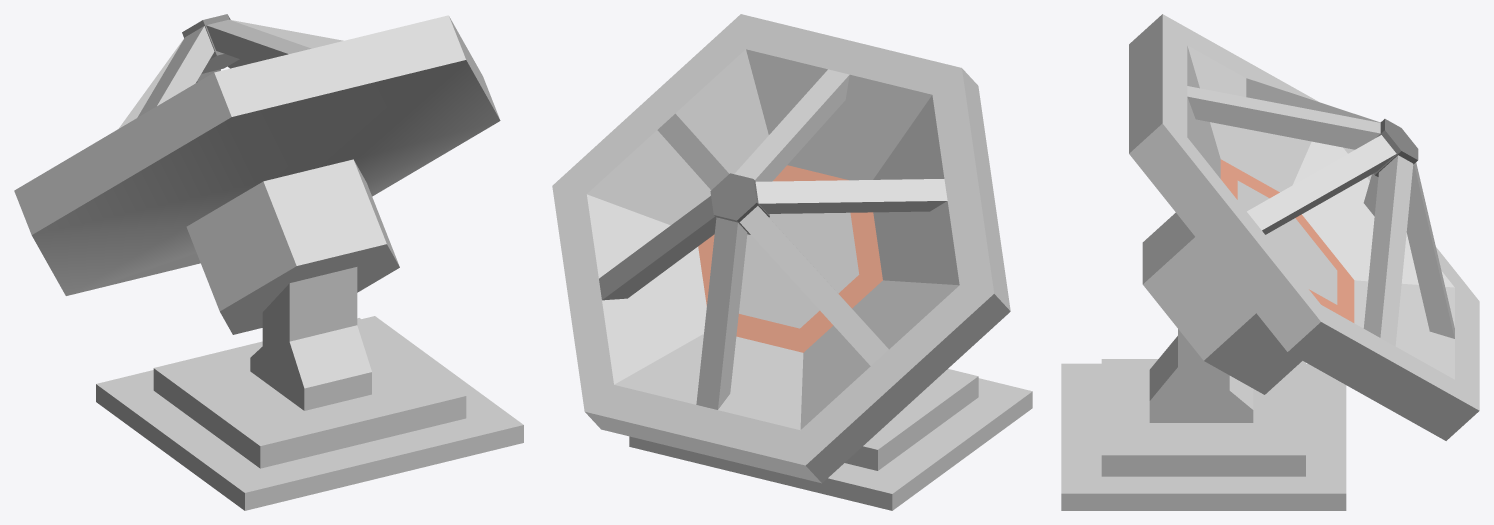
Rendered from satelliteDishLarge.glb.
3 views of the same model, side by side, from view 1: azimuth 30°, elevation 25°; view 2: azimuth 150°, elevation 25°; view 3: azimuth 270°, elevation 25° (orthographic). The views are drawn at different scales.
Visible parts, largest first — view 1: satelliteDishLarge; view 2: satelliteDishLarge; view 3: satelliteDishLarge.
Boxes of the visible parts, x1=… form: satelliteDishLarge: x1=14, y1=14, x2=523, y2=510; satelliteDishLarge: x1=552, y1=14, x2=1032, y2=510; satelliteDishLarge: x1=1061, y1=14, x2=1479, y2=510.
Bounding box in the file's own units: 10.92 × 8.77 × 8.82.
